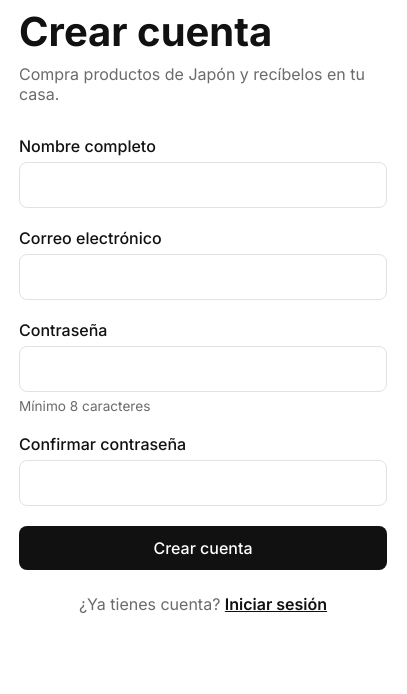
Scenario: TC-UI-01 Registro › rechaza cuando las contraseñas no coinciden
The image size is (407, 694).
Step 1. Type "Ronald" into the field labelled "Nombre completo" → (203, 185), box [19,162,387,208]
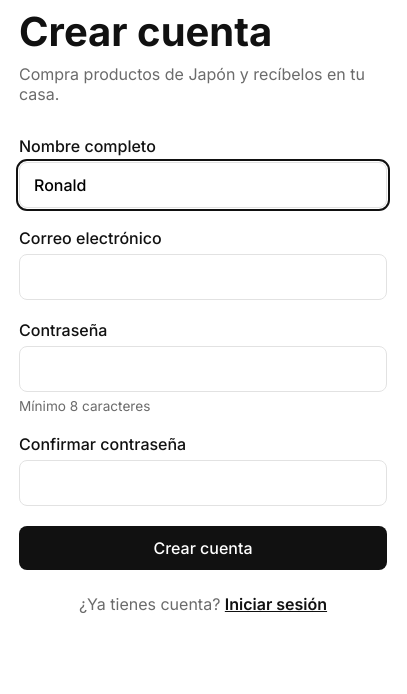
Step 2. Type "ronald@test.com" into the field labelled "Correo electrónico" → (203, 277), box [19,254,387,300]
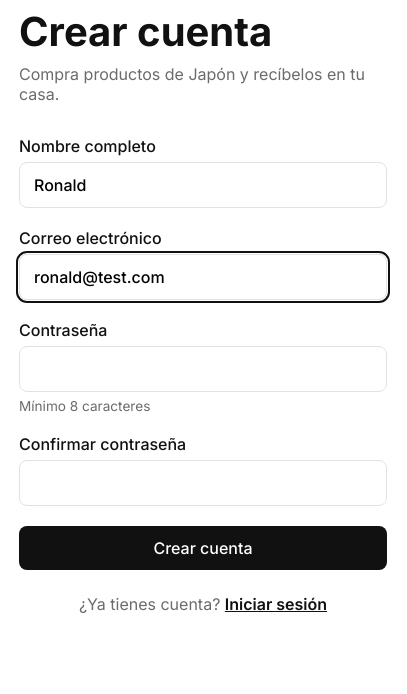
Step 3. Type "secreta123" into the password field labelled "Contraseña Mínimo 8 caracteres" → (203, 369), box [19,346,387,392]
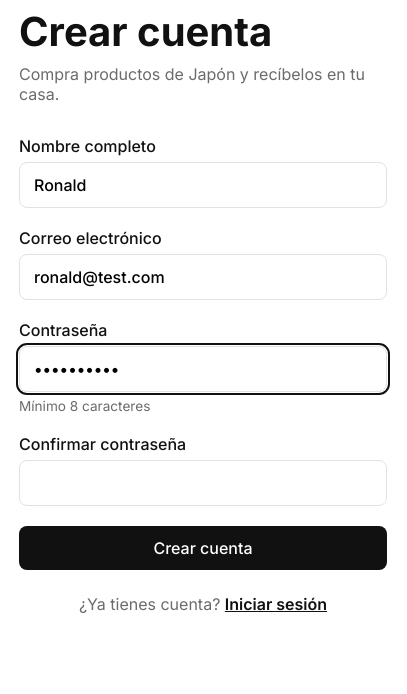
Step 4. Type "otra12345" into the password field labelled "Confirmar contraseña" → (203, 483), box [19,460,387,506]
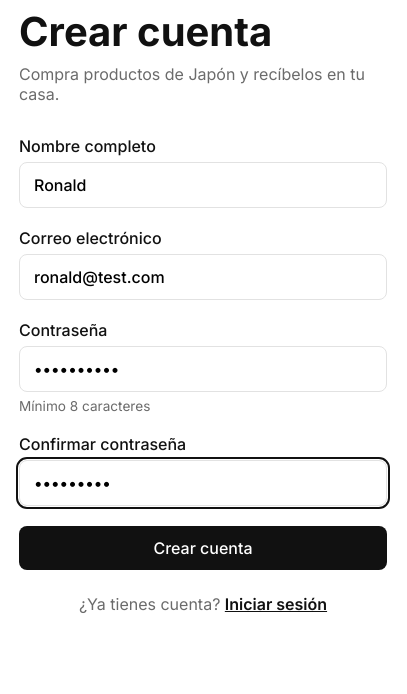
Step 5. Click the button "Crear cuenta" → (203, 548), box [19,526,387,570]
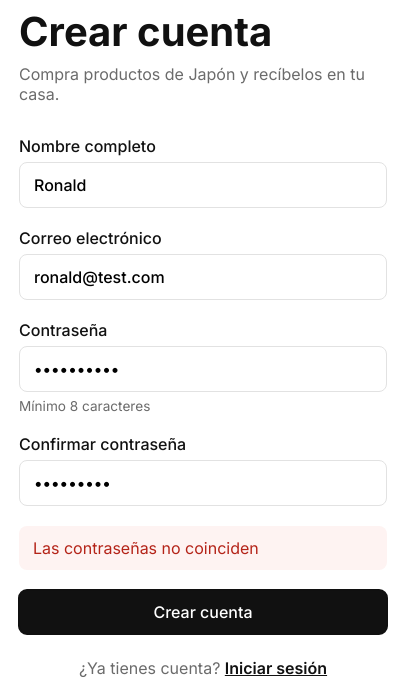
Expected: the text "Las contraseñas no coinciden" is shown, [19,526,387,570]
